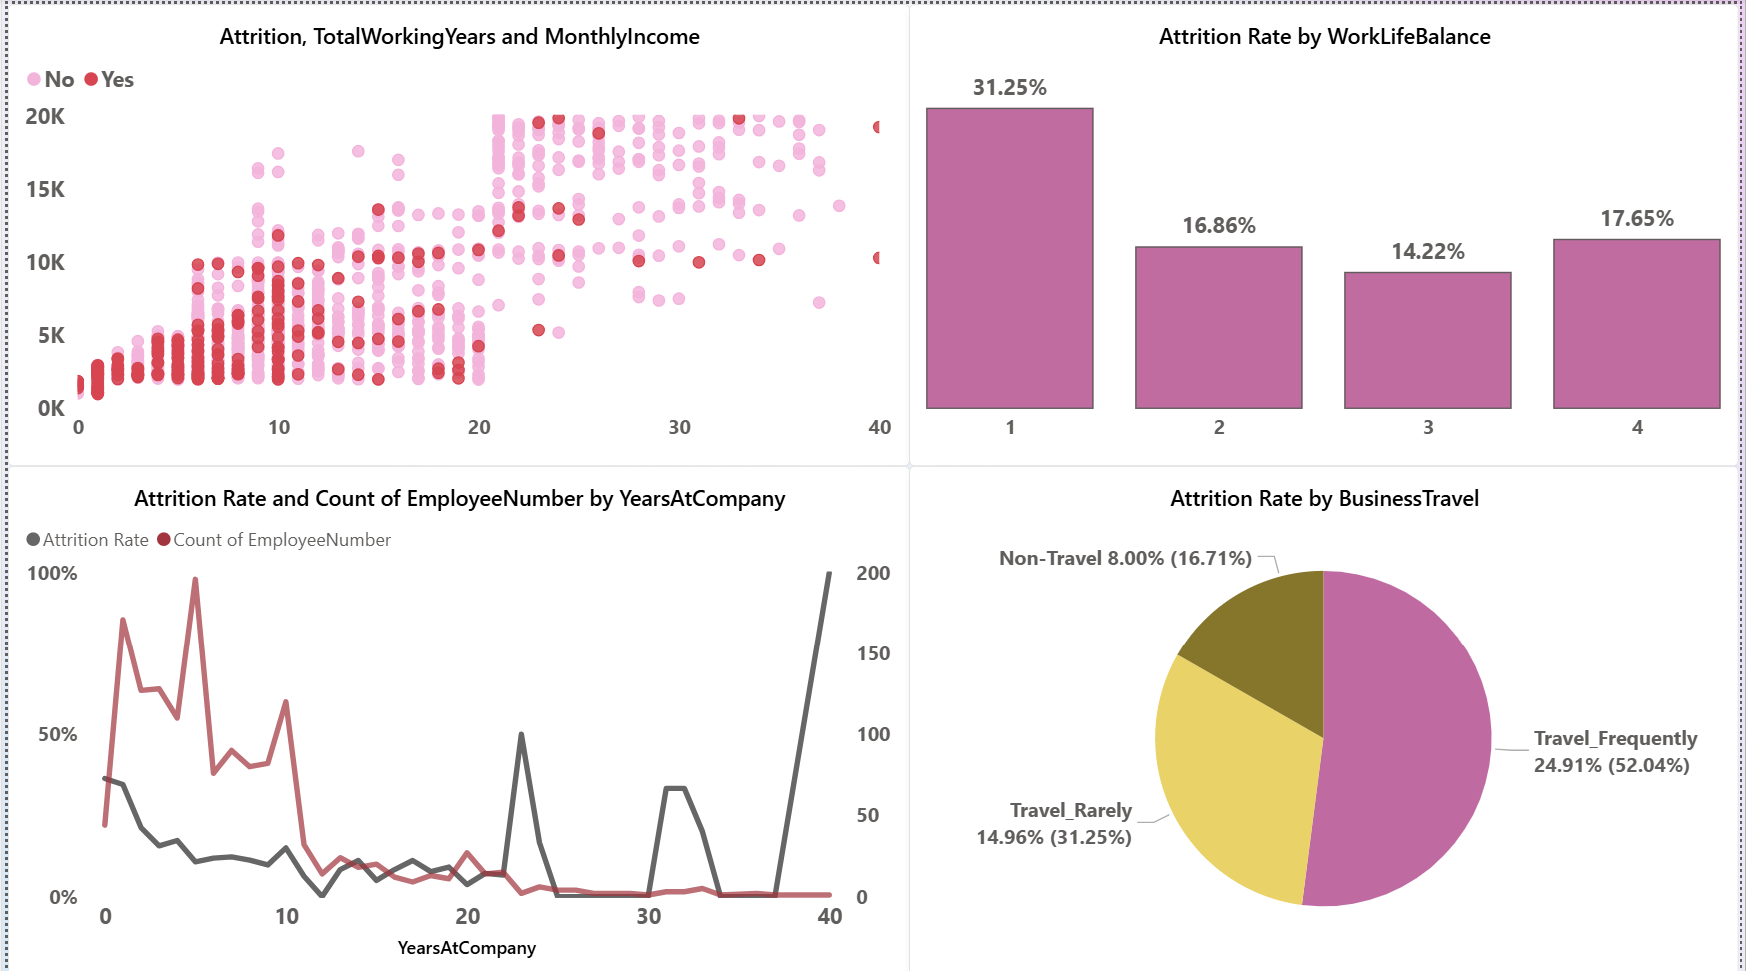

This screenshot's page, from the dashboard's own definition file:
{"tool":"powerbi","page":{"name":"Attrition Trends & Outliers","canvas":[1280,720],"ordinal":1},"visuals":[{"type":"scatterChart","fields":{"Series":["Fact_HR_Employee.Attrition"],"X":["Fact_HR_Employee.TotalWorkingYears"],"Y":["Fact_HR_Employee.MonthlyIncome"]},"box":[0,0,666.7,341.7],"z":0},{"type":"lineChart","fields":{"Category":["Fact_HR_Employee.YearsAtCompany"],"Y":["Measures (2).Attrition Rate"],"Y2":["CountNonNull(Fact_HR_Employee.EmployeeNumber)"]},"box":[0,341.7,666.7,378.3],"z":1000},{"type":"clusteredColumnChart","fields":{"Category":["Fact_HR_Employee.WorkLifeBalance"],"Y":["Measures (2).Attrition Rate"]},"box":[666.7,0,613.3,341.7],"z":2000},{"type":"pieChart","fields":{"Category":["Dim_BusinessTravel.BusinessTravel"],"Y":["Measures (2).Attrition Rate"]},"box":[666.7,341.7,613.3,378.3],"z":3000}]}

Visuals, with their boxes in screenshot pixels (x1, y1, x2, y2), scaled from the page's 1280x720 canvas onto the 1746x971 screenshot:
scatterChart - Fact_HR_Employee.Attrition x Fact_HR_Employee.TotalWorkingYears: (0,0,909,461)
lineChart - Fact_HR_Employee.YearsAtCompany x Measures (2).Attrition Rate: (0,461,909,970)
clusteredColumnChart - Fact_HR_Employee.WorkLifeBalance x Measures (2).Attrition Rate: (909,0,1745,461)
pieChart - Dim_BusinessTravel.BusinessTravel x Measures (2).Attrition Rate: (909,461,1745,970)
